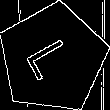L_NE: (24, 32, 82, 84)
